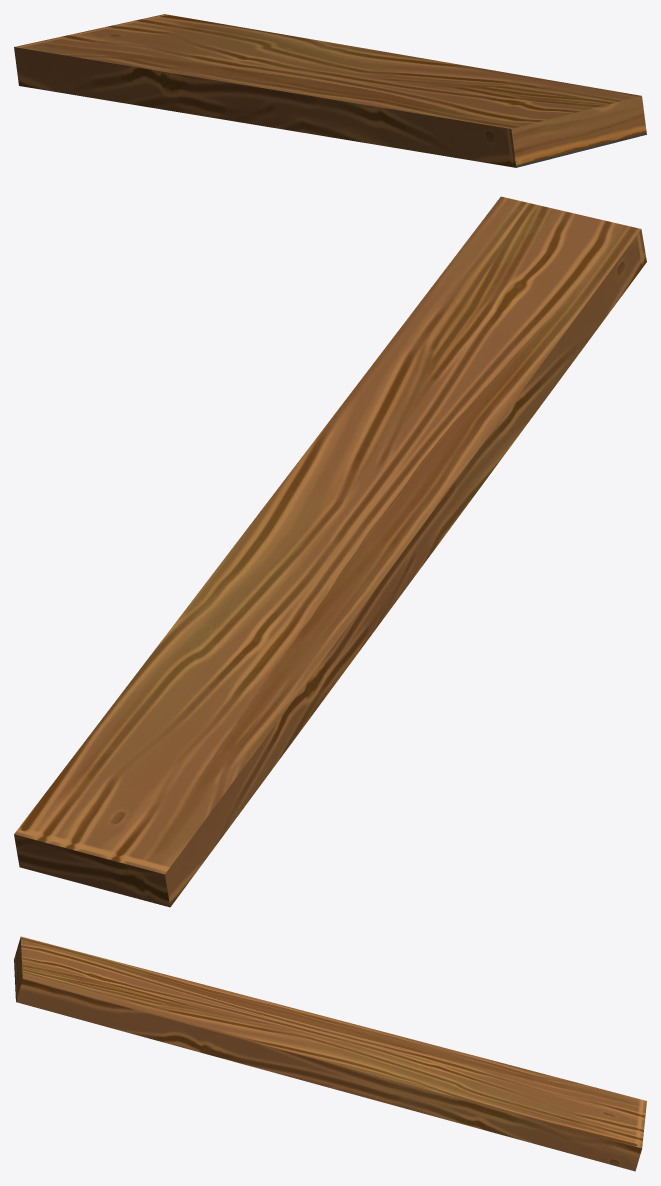
3 renders of one model, top to bottom at view 1: azimuth 30°, elevation 25°; view 2: azimuth 150°, elevation 25°; view 3: azimuth 270°, elevation 25°, orthographic. The views are drawn at different scales.
Visible parts, largest first — view 1: Cube.569; view 2: Cube.569; view 3: Cube.569.
Part boxes in pixels (x1,y1,x2,y2): Cube.569: (14,14,646,167); Cube.569: (14,196,646,907); Cube.569: (14,936,646,1171).
Size of the model in its own units: 37.77 by 69.17 by 204.
1 material, 1 textured.
